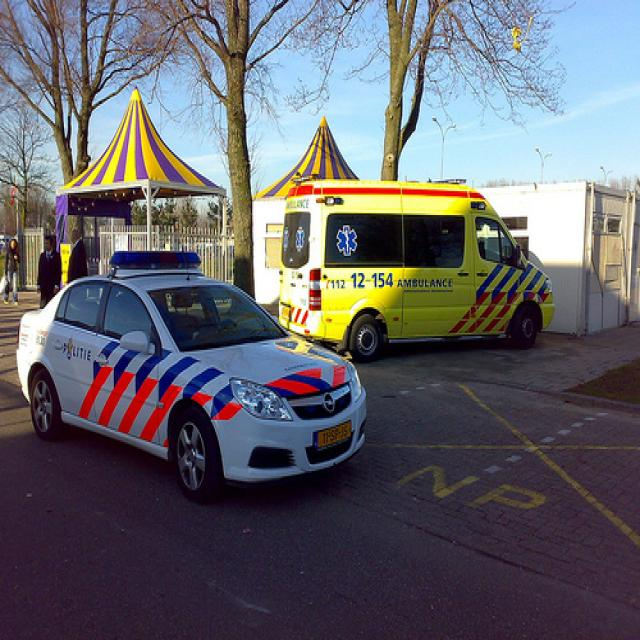emergency-vehicle: (282, 176, 556, 346)
